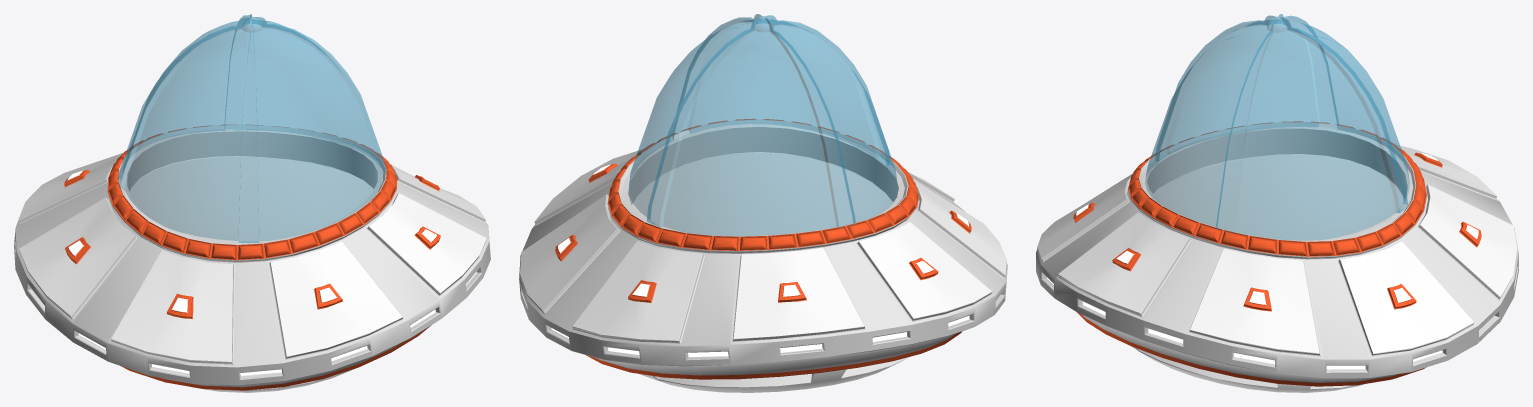
File: enemy.glb
3 views of the same model, side by side, from view 1: azimuth 30°, elevation 25°; view 2: azimuth 150°, elevation 25°; view 3: azimuth 270°, elevation 25° (orthographic). The views are drawn at different scales.
Visible parts, largest first — view 1: Base; view 2: Base; view 3: Base.
Part boxes in pixels (x1,y1,x2,y2): Base: (14,14,490,392); Base: (519,14,1007,392); Base: (1036,14,1518,392).
Size of the model in its own units: 2 by 1.49 by 2.
